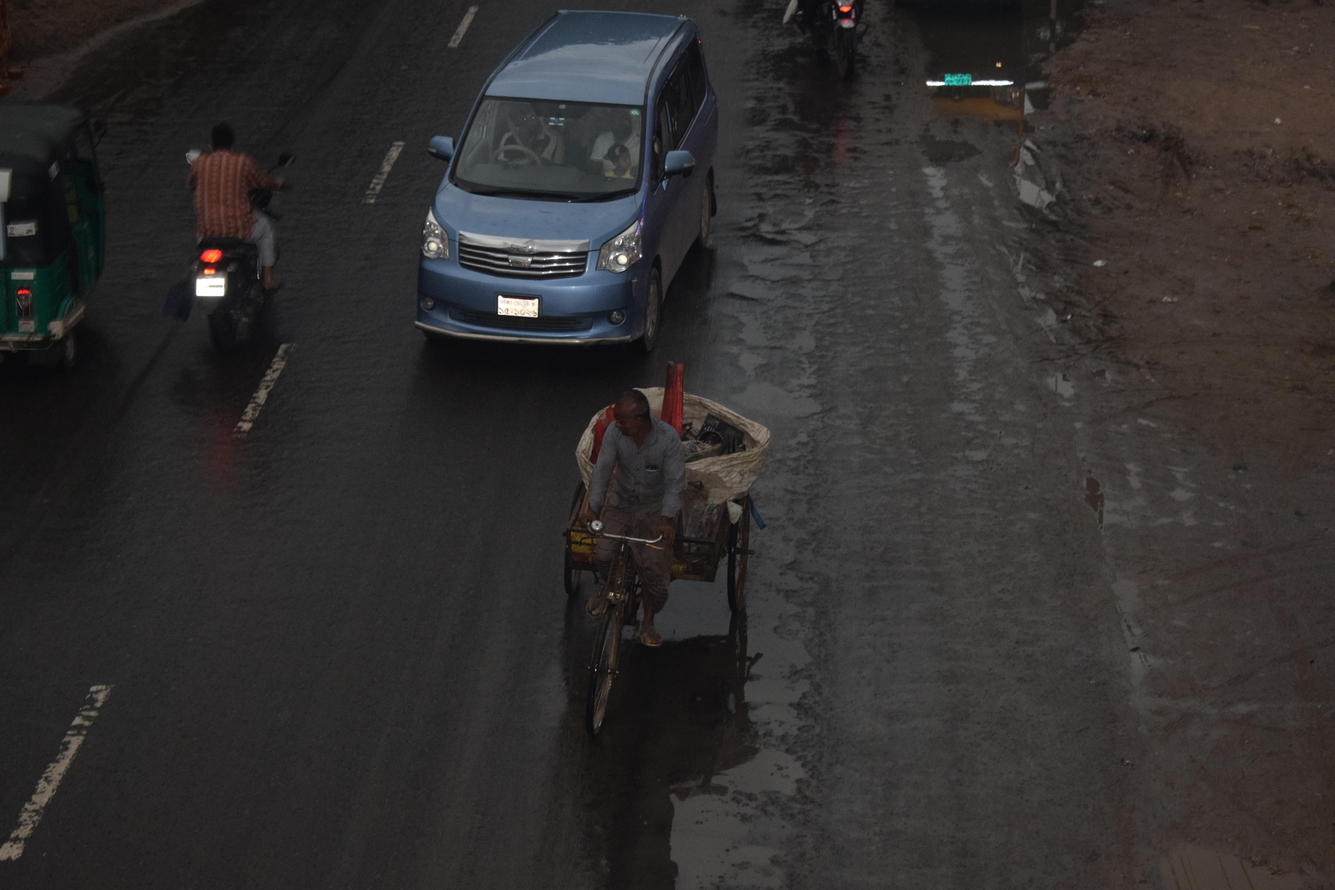Bike: (138, 96, 327, 392)
Car: (384, 0, 761, 389), (519, 335, 804, 776)
